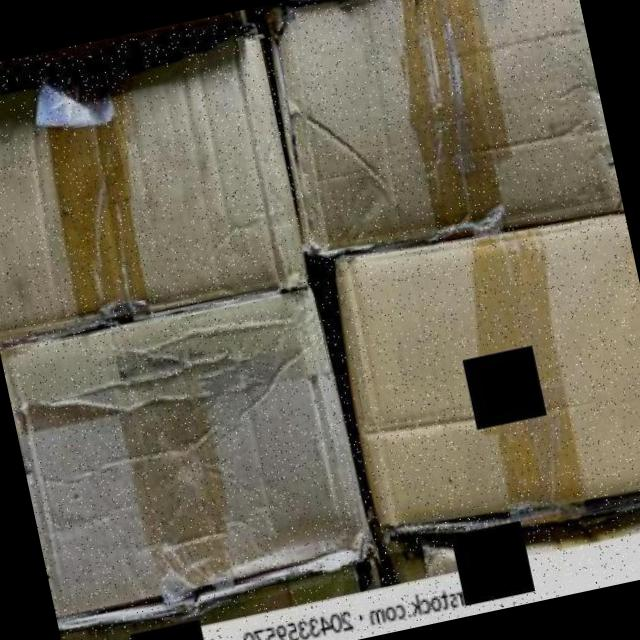box: (1, 286, 378, 640), (322, 215, 640, 554), (0, 24, 306, 338), (265, 0, 621, 261)
